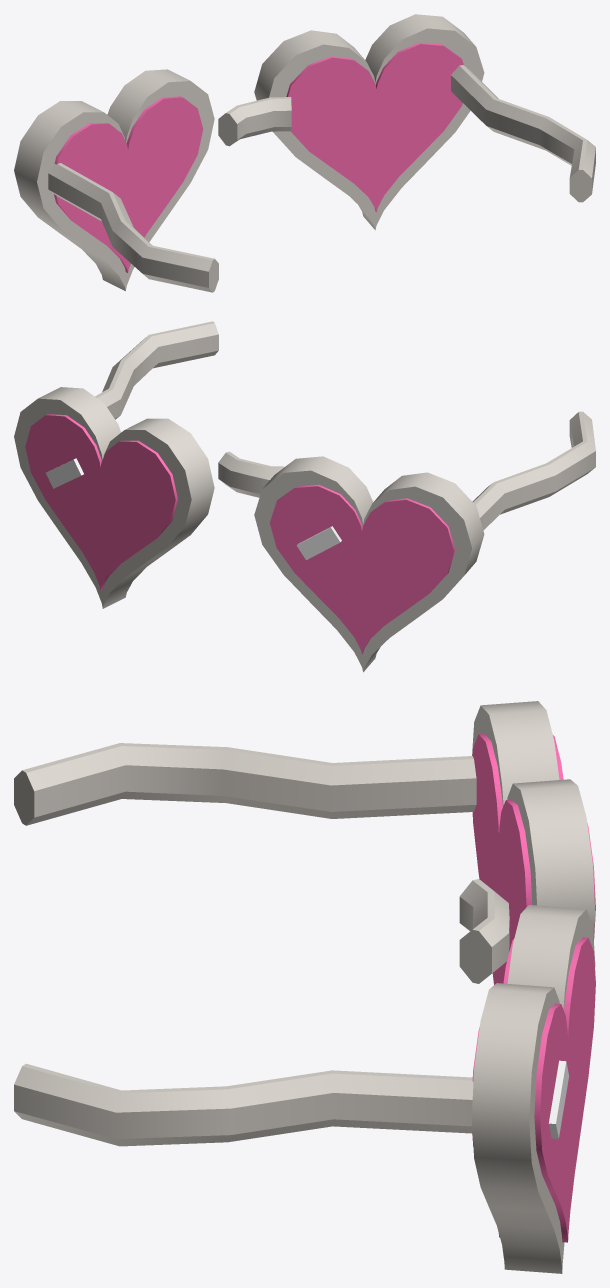
Rendered from lunettes_coeur.fbx.
The picture shows the model from 3 angles, top to bottom: view 1: azimuth 30°, elevation 25°; view 2: azimuth 150°, elevation 25°; view 3: azimuth 270°, elevation 25°; orthographic projection. The views are drawn at different scales.
Parts seen in each view (by area): view 1: lunettes_coeur; view 2: lunettes_coeur; view 3: lunettes_coeur.
Boxes of the visible parts, <box> form: lunettes_coeur: <box>14,14,595,292</box>; lunettes_coeur: <box>14,321,595,672</box>; lunettes_coeur: <box>14,701,595,1273</box>.
Size of the model in its own units: 0.593 by 0.24 by 0.3982.
